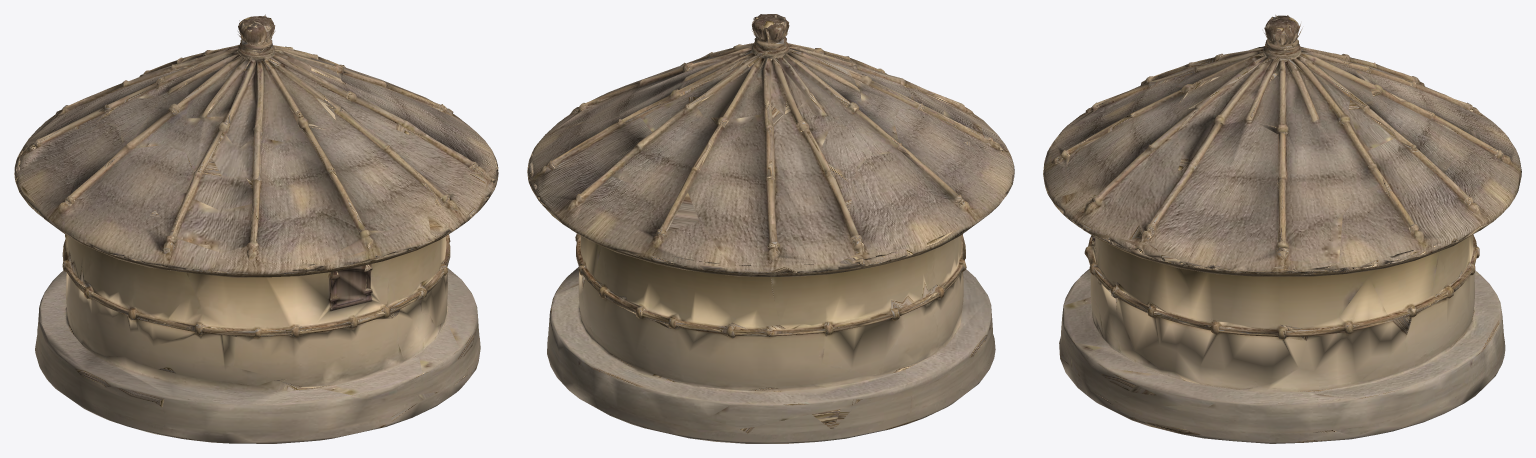
Rendered from granary_b_lod0.glb.
The picture shows the model from 3 angles, left to right: view 1: azimuth 30°, elevation 25°; view 2: azimuth 150°, elevation 25°; view 3: azimuth 270°, elevation 25°; orthographic projection.
Visible parts, largest first — view 1: node_0; view 2: node_0; view 3: node_0.
Part boxes in pixels (box(x1,y1,x2,y2)): node_0: box(14, 14, 498, 443); node_0: box(527, 14, 1014, 443); node_0: box(1043, 15, 1521, 443).
Size of the model in its own units: 5.47 by 4.2 by 5.5.
Materials: 1 (1 with a texture image).
